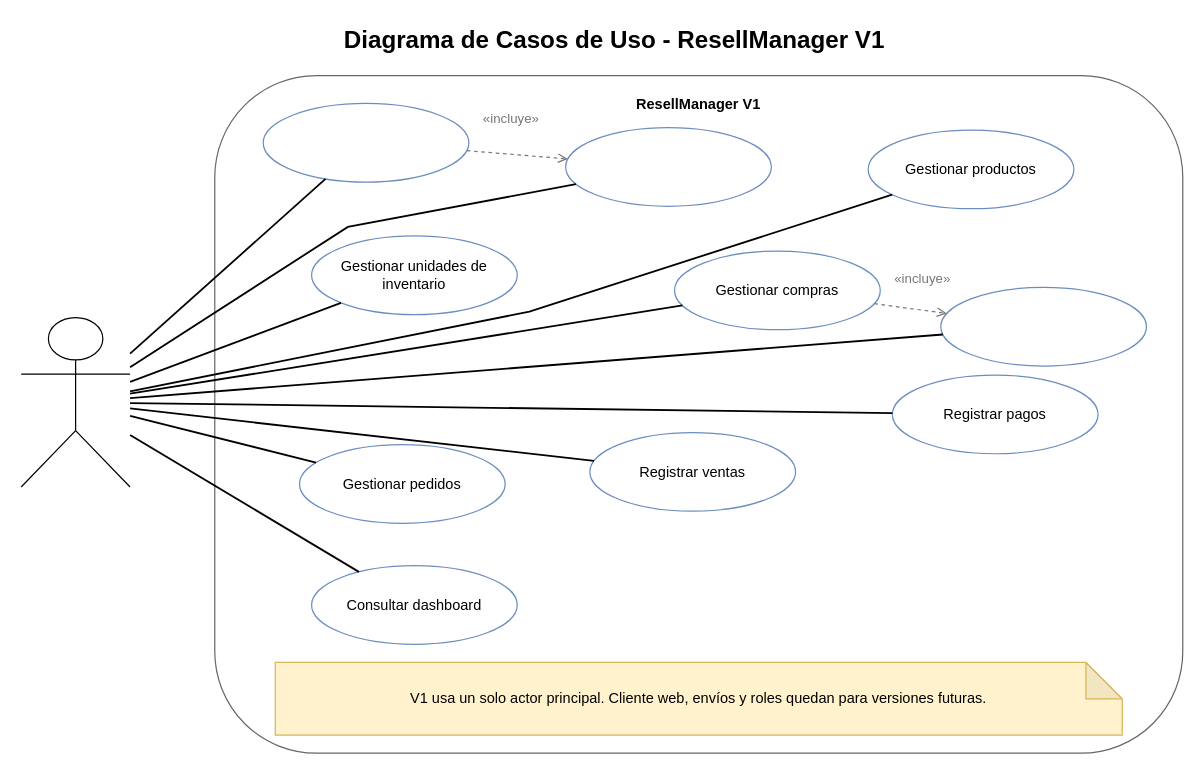
This 1204x774 diagram has some shape labels left out. The shapes that lost their labels are listed below. From the top down, each one's centre as x and y in pixels, then its label:
At point 365,142: "Gestionar clientes".
At point 667,166: "Consultar saldo de cliente".
At point 1043,326: "Adjuntar comprobante de compra".
At point 75,401: "Vendedora".
